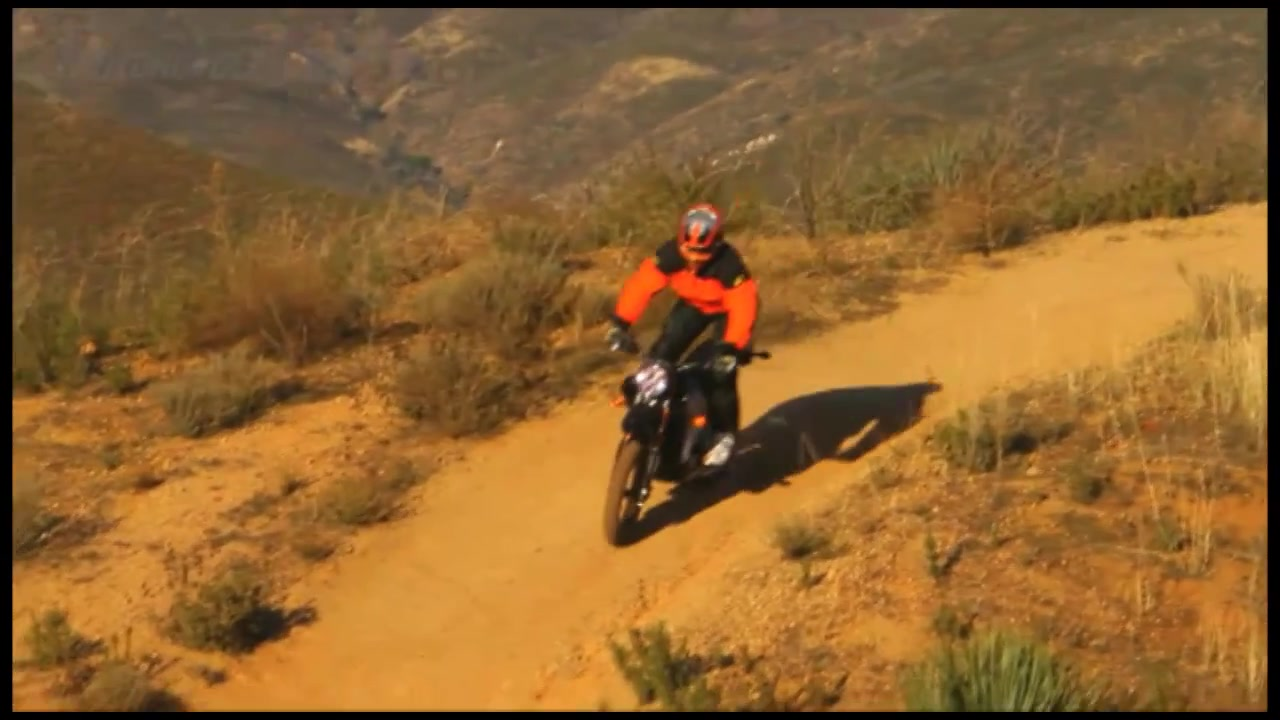motorbike: (601, 324, 739, 548)
